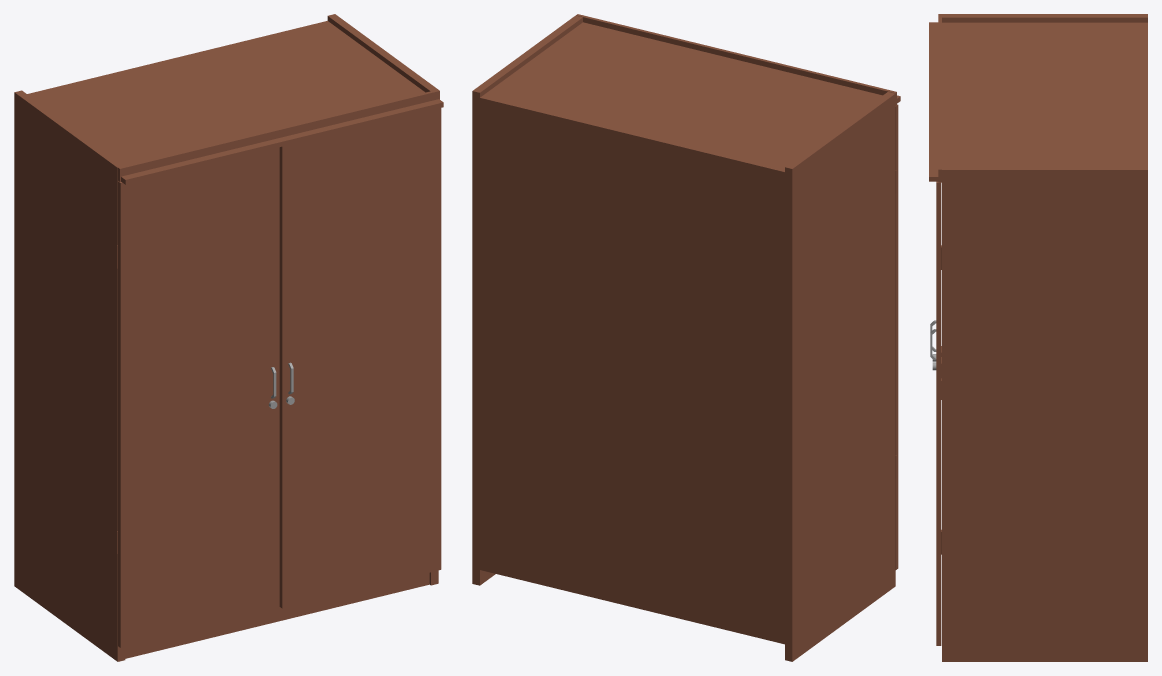
File: ShoeBox.FBX
3 views of the same model, side by side, from view 1: azimuth 30°, elevation 25°; view 2: azimuth 150°, elevation 25°; view 3: azimuth 270°, elevation 25° (orthographic).
Visible parts, largest first — view 1: wardrobe, door_R, door_L; view 2: wardrobe, door_L; view 3: wardrobe, door_R.
Part boxes in pixels (<box>): wardrobe: <box>14,14,443,661</box>; door_R: <box>279,108,441,608</box>; door_L: <box>118,147,279,647</box>; wardrobe: <box>472,14,900,661</box>; door_L: <box>895,104,898,569</box>; wardrobe: <box>929,14,1147,661</box>; door_R: <box>930,181,941,645</box>.
Bounding box in the file's own units: 134 × 196 × 79.06.
1 material, 1 textured.
